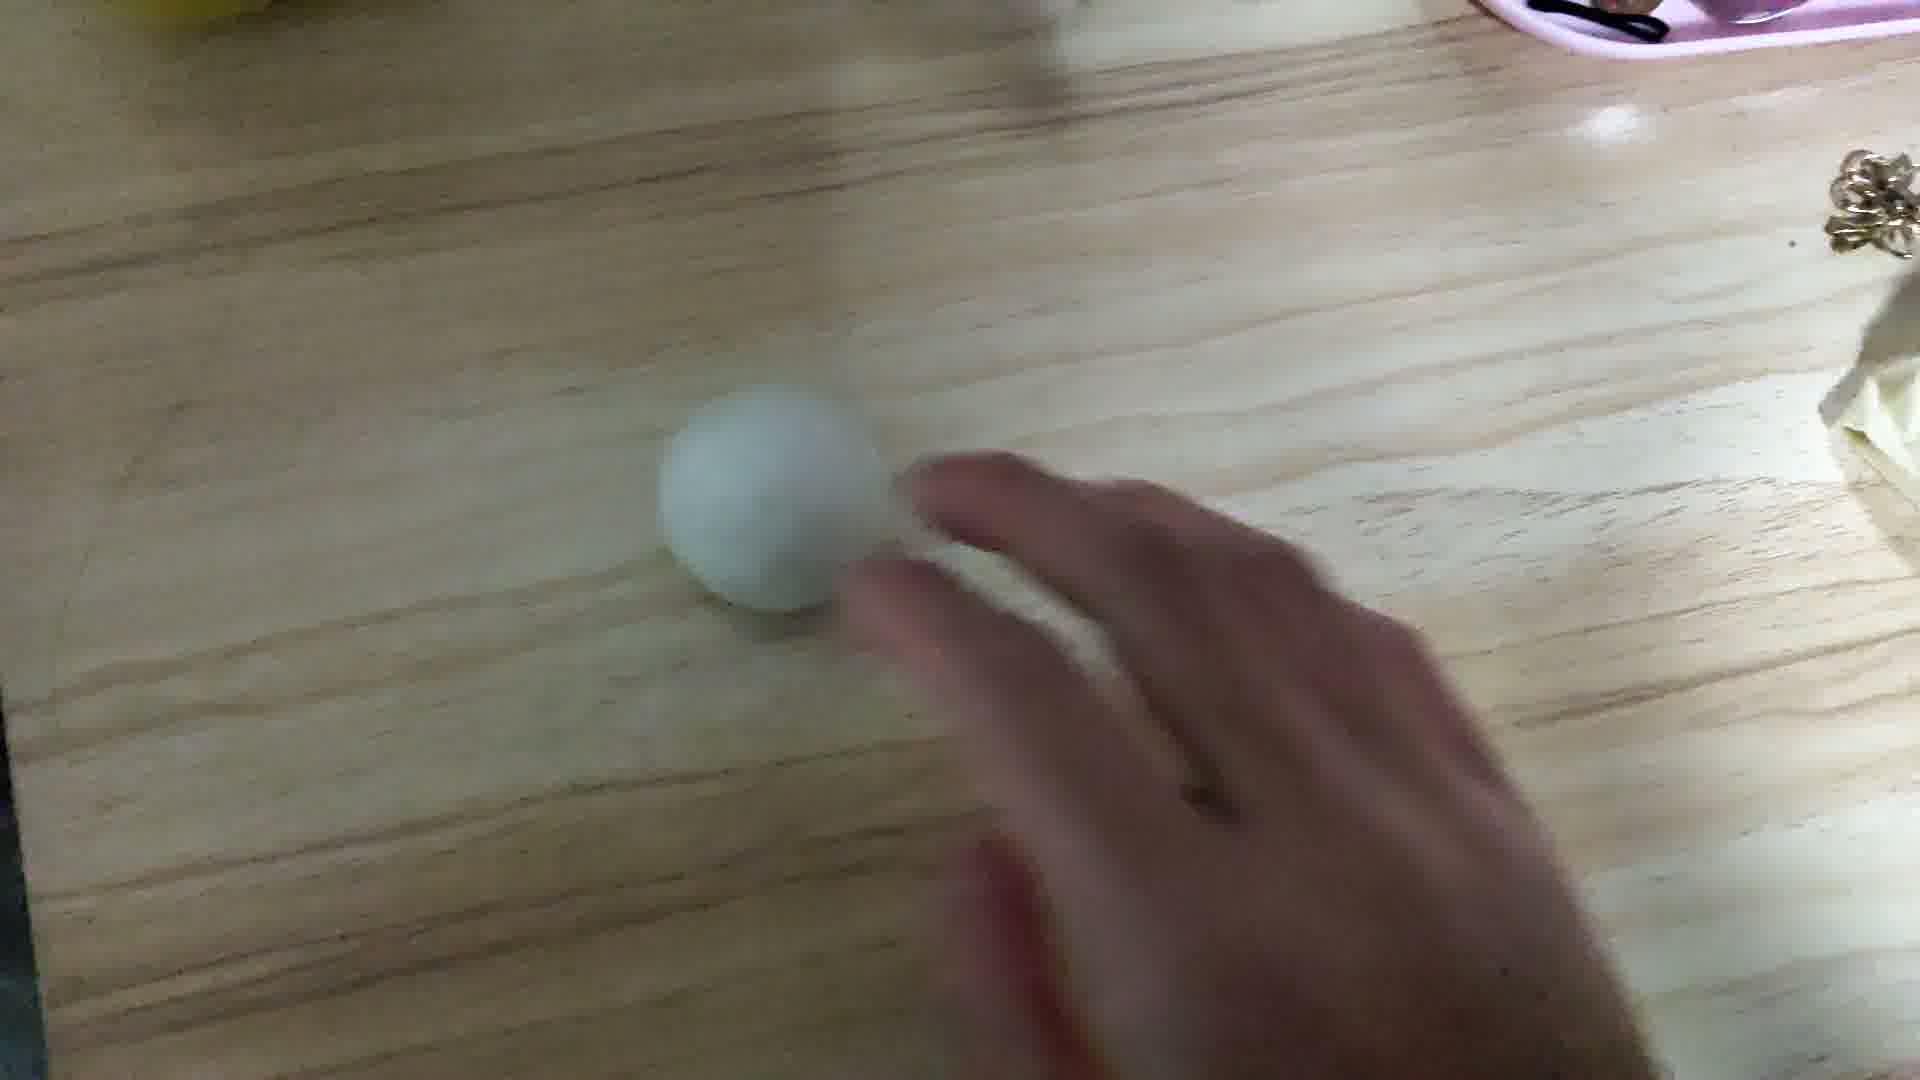Ball: (655, 378, 893, 618)
